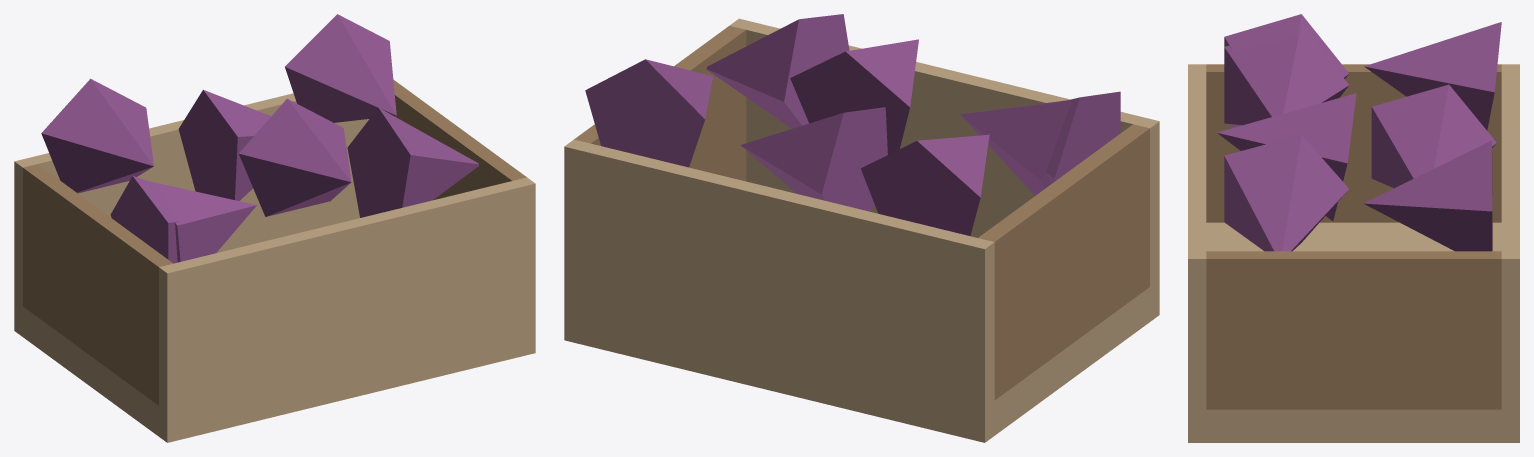
Rendered from prop-grape-crate.fbx.
3 views of the same model, side by side, from view 1: azimuth 30°, elevation 25°; view 2: azimuth 150°, elevation 25°; view 3: azimuth 270°, elevation 25° (orthographic). The views are drawn at different scales.
Parts seen in each view (by area): view 1: prop-grape-crate; view 2: prop-grape-crate; view 3: prop-grape-crate.
Boxes of the visible parts, <box> form: prop-grape-crate: <box>14,14,535,442</box>; prop-grape-crate: <box>564,14,1159,442</box>; prop-grape-crate: <box>1188,14,1519,442</box>.
Bounding box in the file's own units: 50 × 32.53 × 36.
